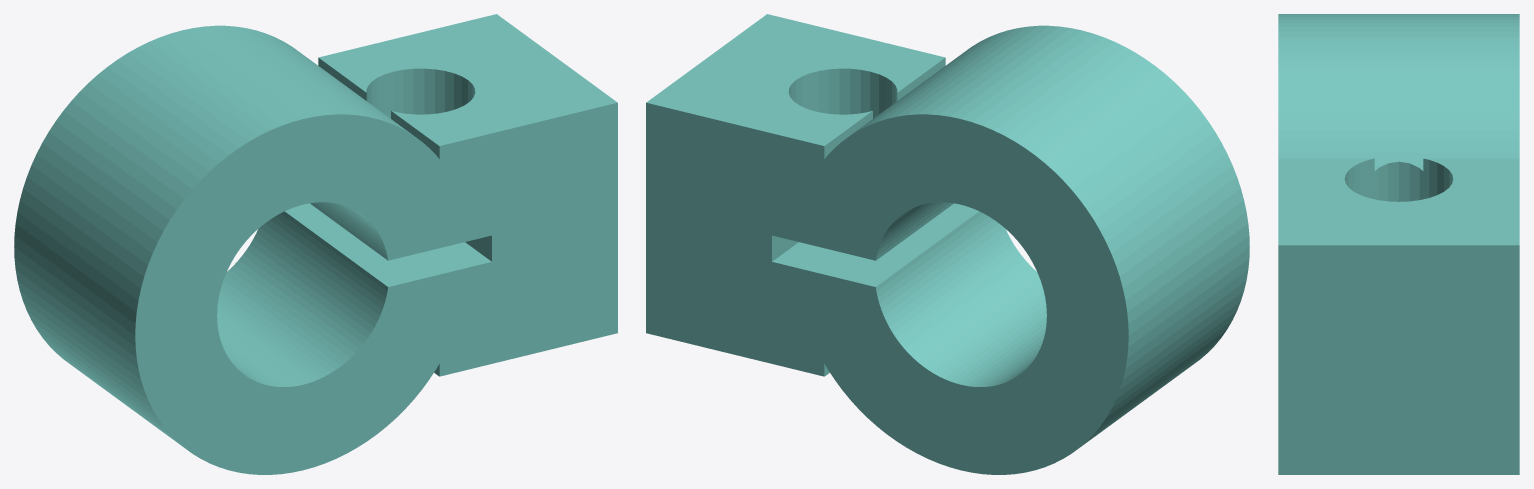
File: shaft_collar_demo.glb
3 renders of one model, left to right at view 1: azimuth 30°, elevation 25°; view 2: azimuth 150°, elevation 25°; view 3: azimuth 270°, elevation 25°, orthographic.
Parts seen in each view (by area): view 1: shaft_collar; view 2: shaft_collar; view 3: shaft_collar.
Part boxes in pixels (<box>): shaft_collar: <box>14,14,617,474</box>; shaft_collar: <box>646,14,1249,474</box>; shaft_collar: <box>1278,14,1519,474</box>.
Size of the model in its own units: 23 by 16 by 10.
